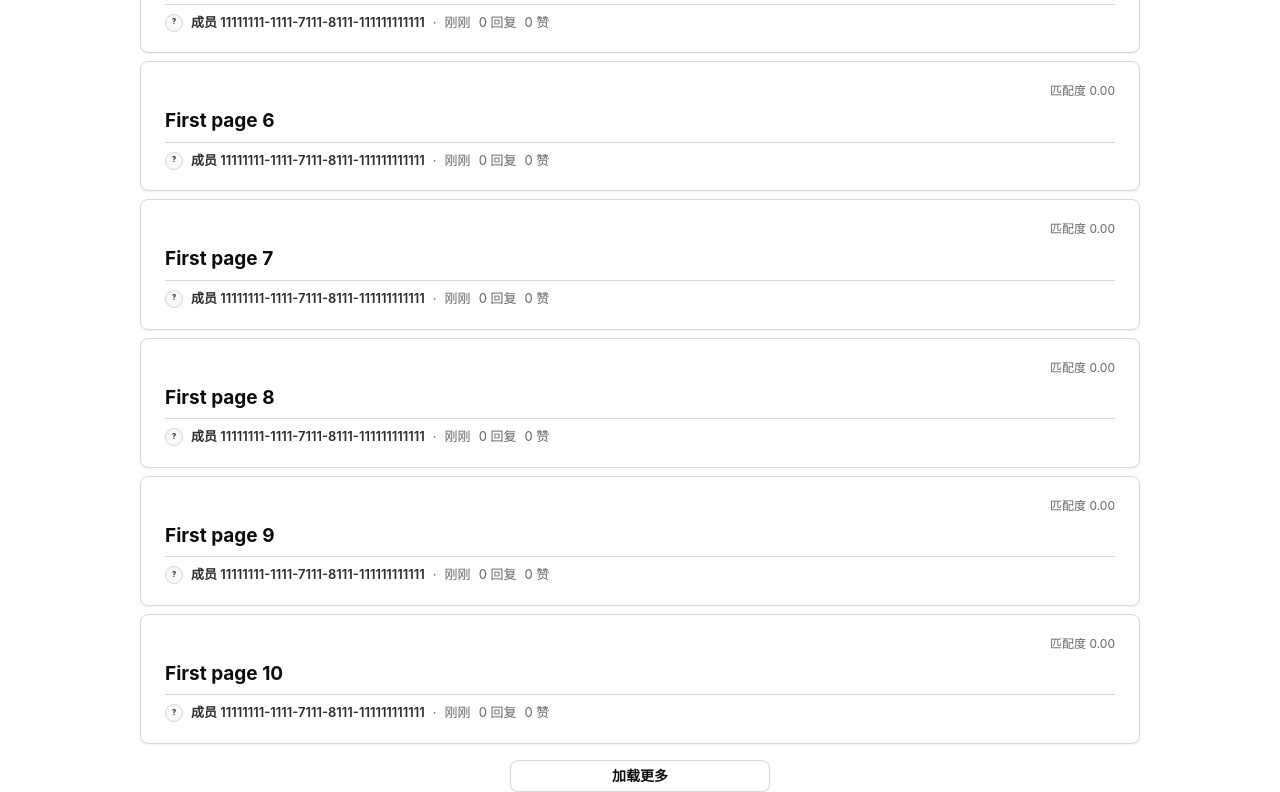
Test: SearchView › appends the next page through load more and retries the same page after a failure
(page scrolled)
What coordinates should you click on to do the following:
click the button "加载更多"
I would click on:
 (640, 776)
Its box is [510, 760, 770, 791].
(page scrolled)
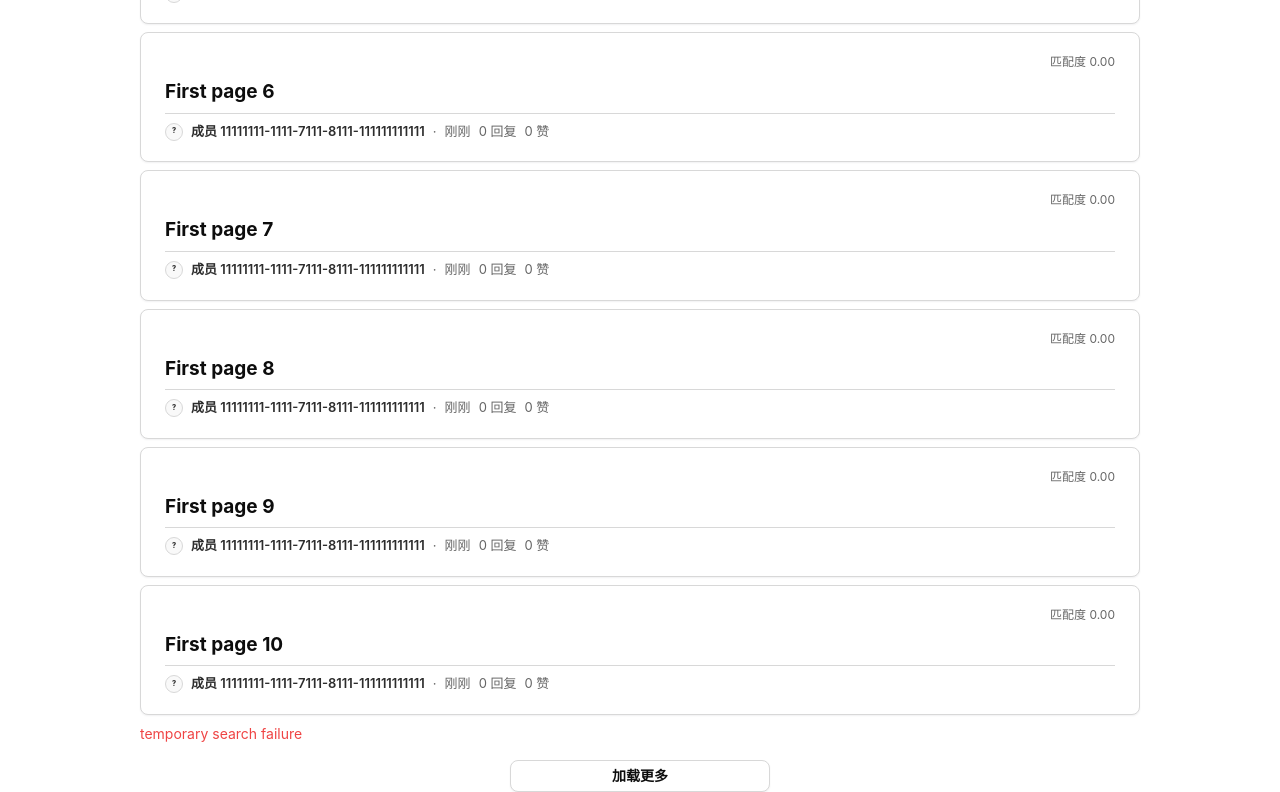
Expected: the text "First page 1" is shown, [165, 633, 283, 656]
Expected: the text "temporary search failure" is shown, [140, 725, 302, 742]
What coordinates should you click on to do the following:
click the button "加载更多"
I would click on:
 (640, 776)
Its box is [510, 760, 770, 791].
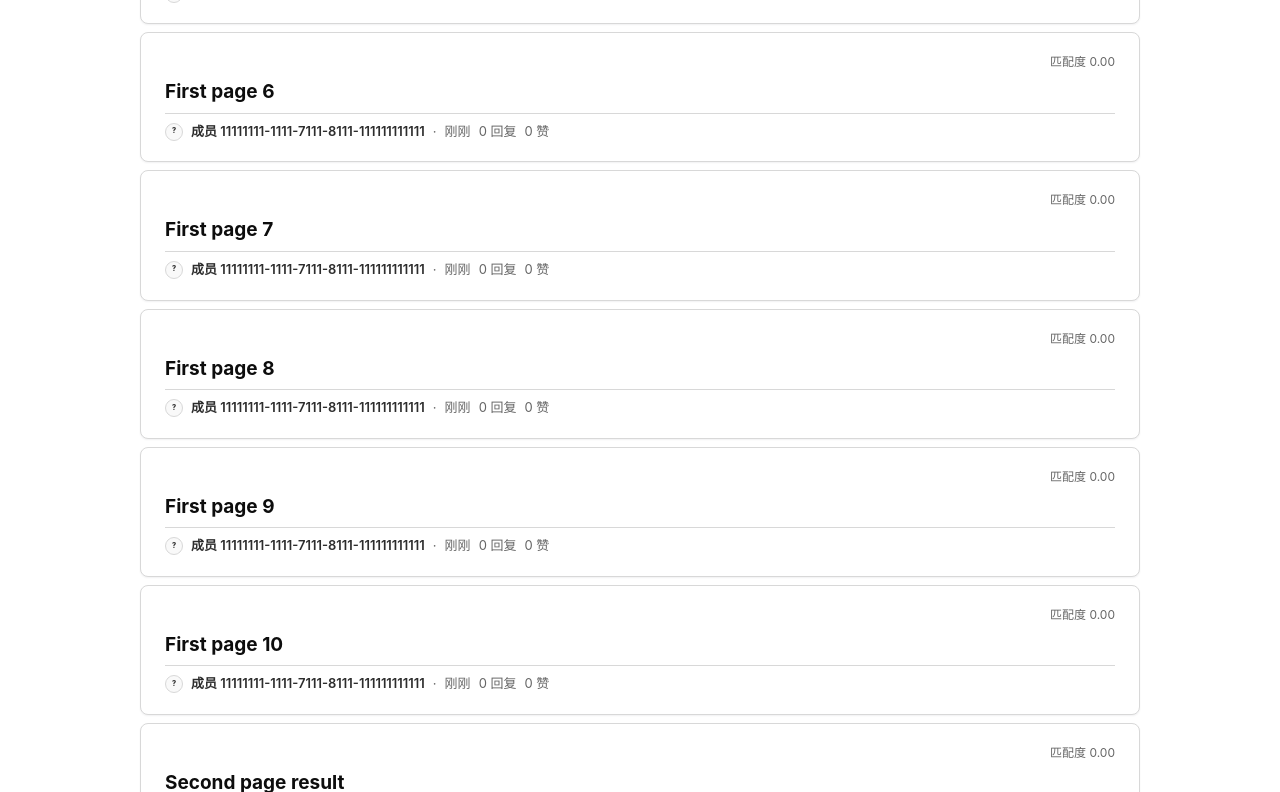
Expected: the text "First page 1" is shown, [165, 633, 283, 656]
Expected: the text "temporary search failure" is gone
